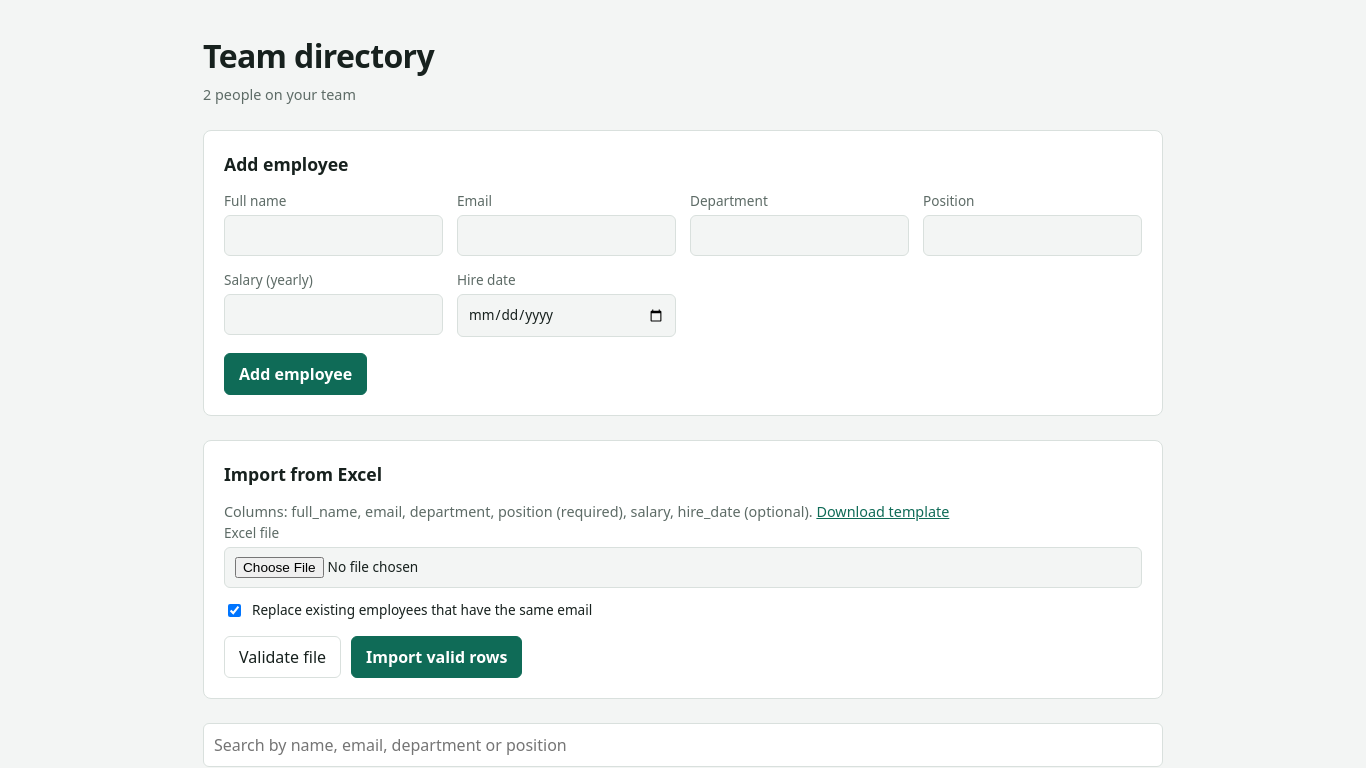
Test: <App /> › shows the server message when adding fails (duplicate email)
The width and height of the screenshot is (1366, 768).
In the field labelled "Full name": (334, 236) [224,215,443,256], type "Dup"
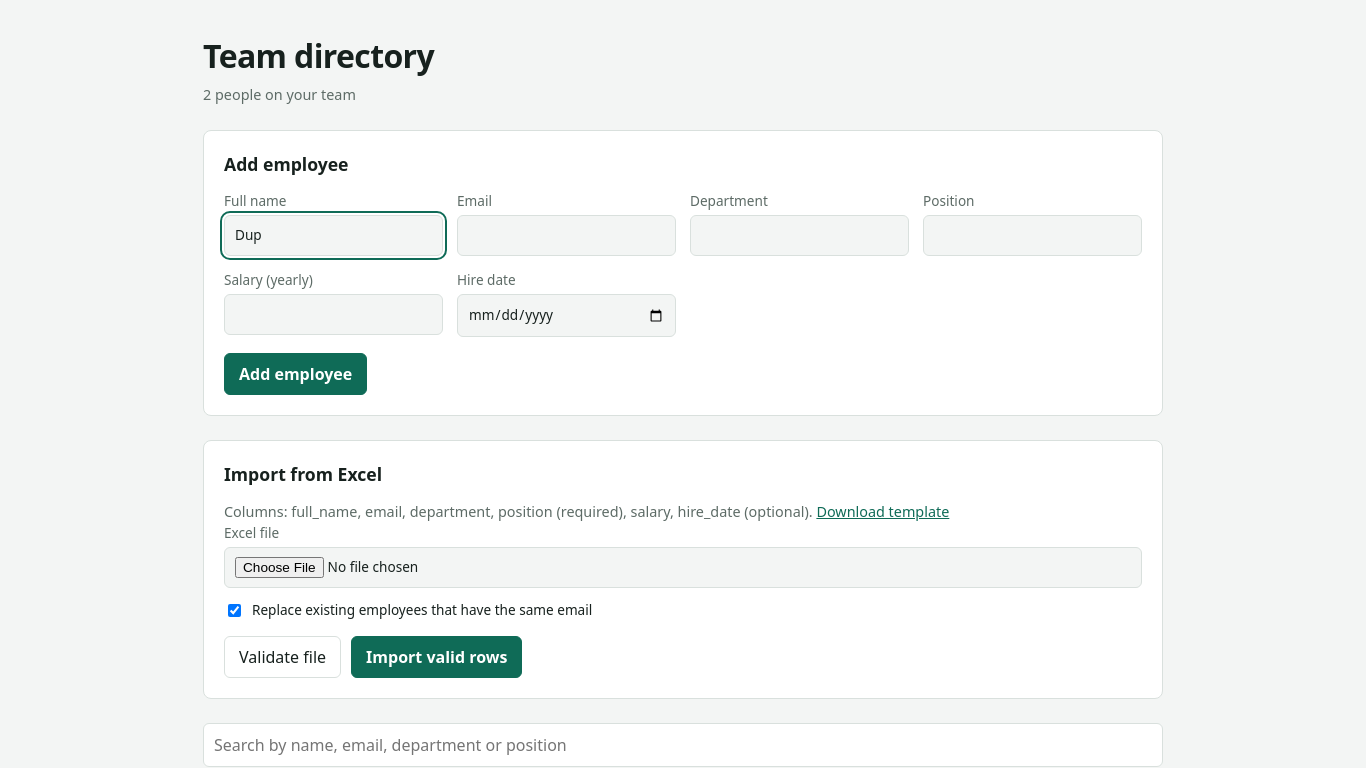
In the field labelled "Email": (566, 236) [457,215,676,256], type "priya@example.com"
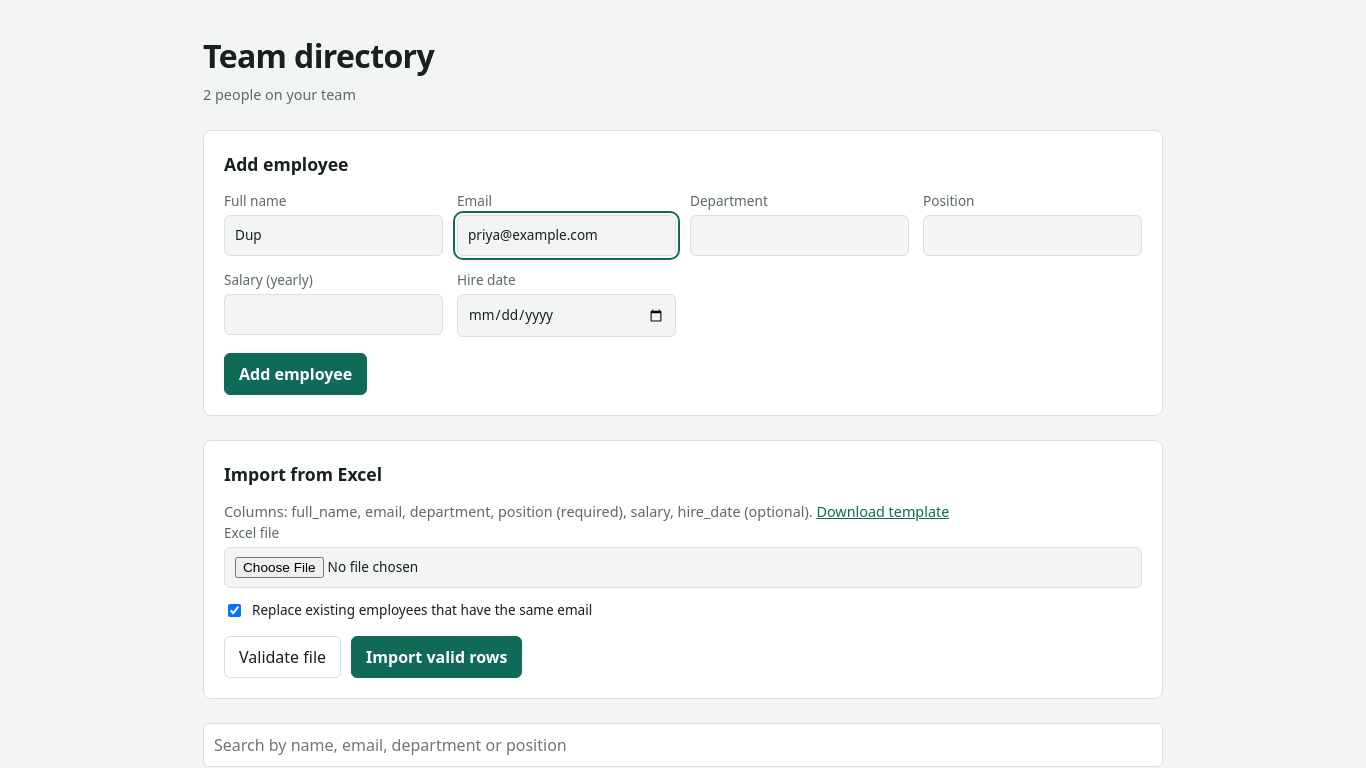
In the field labelled "Department": (800, 236) [690,215,909,256], type "X"
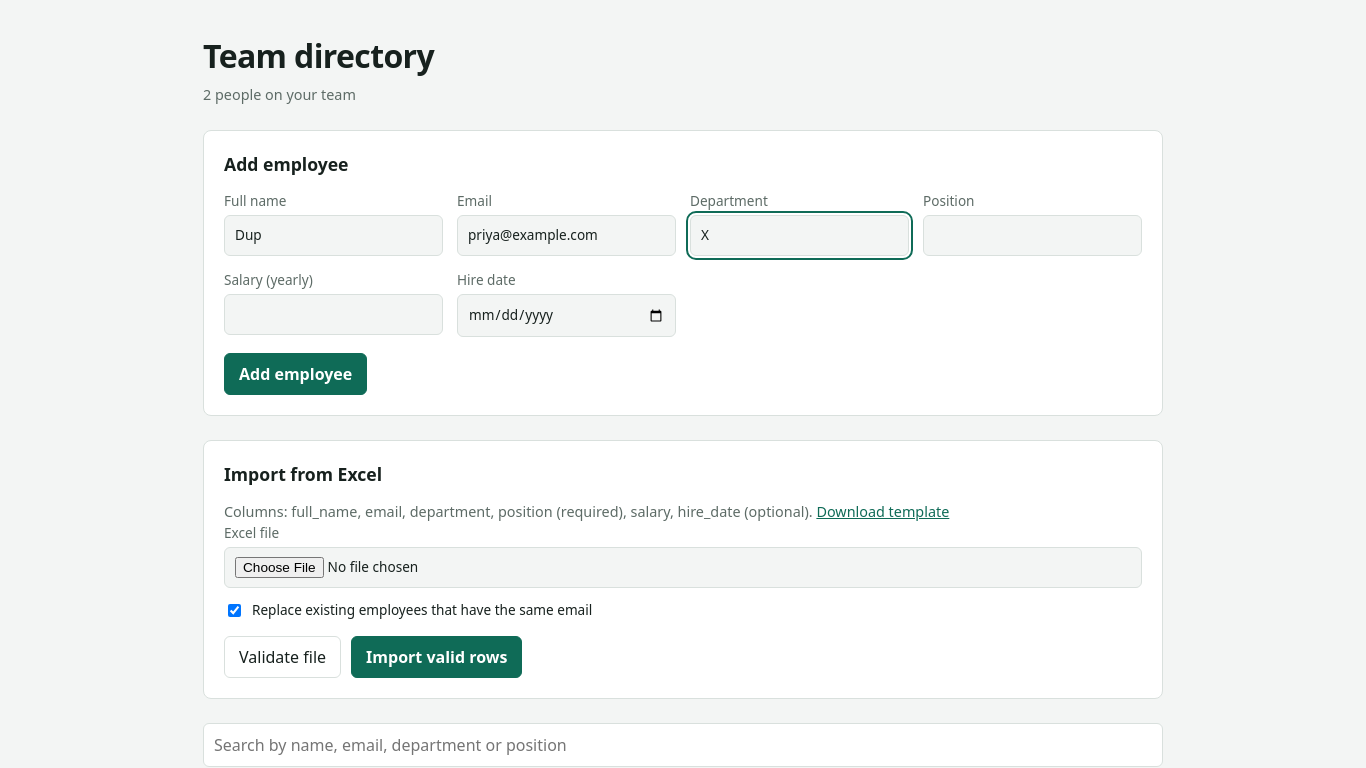
In the field labelled "Position": (1032, 236) [923,215,1142,256], type "Y"
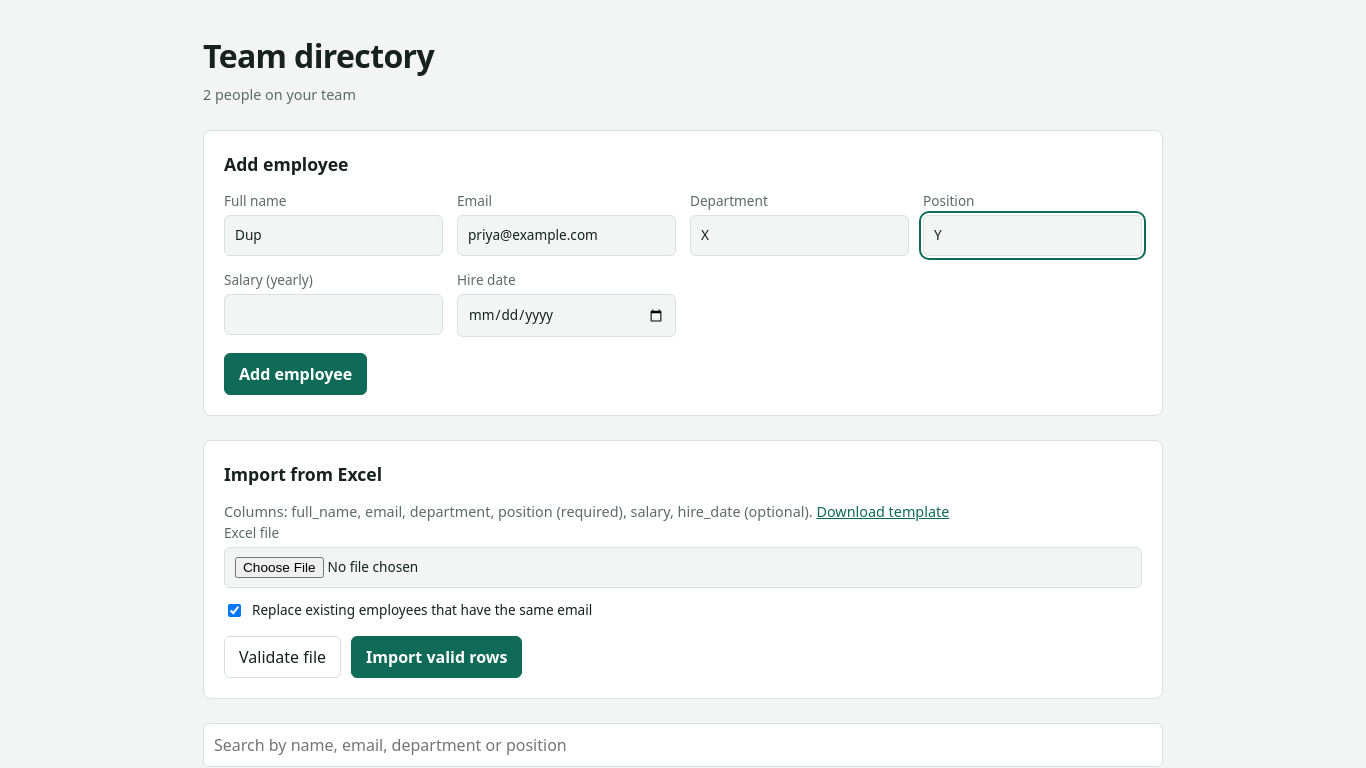
Click the button "Add employee": (296, 374) [224,353,367,395]
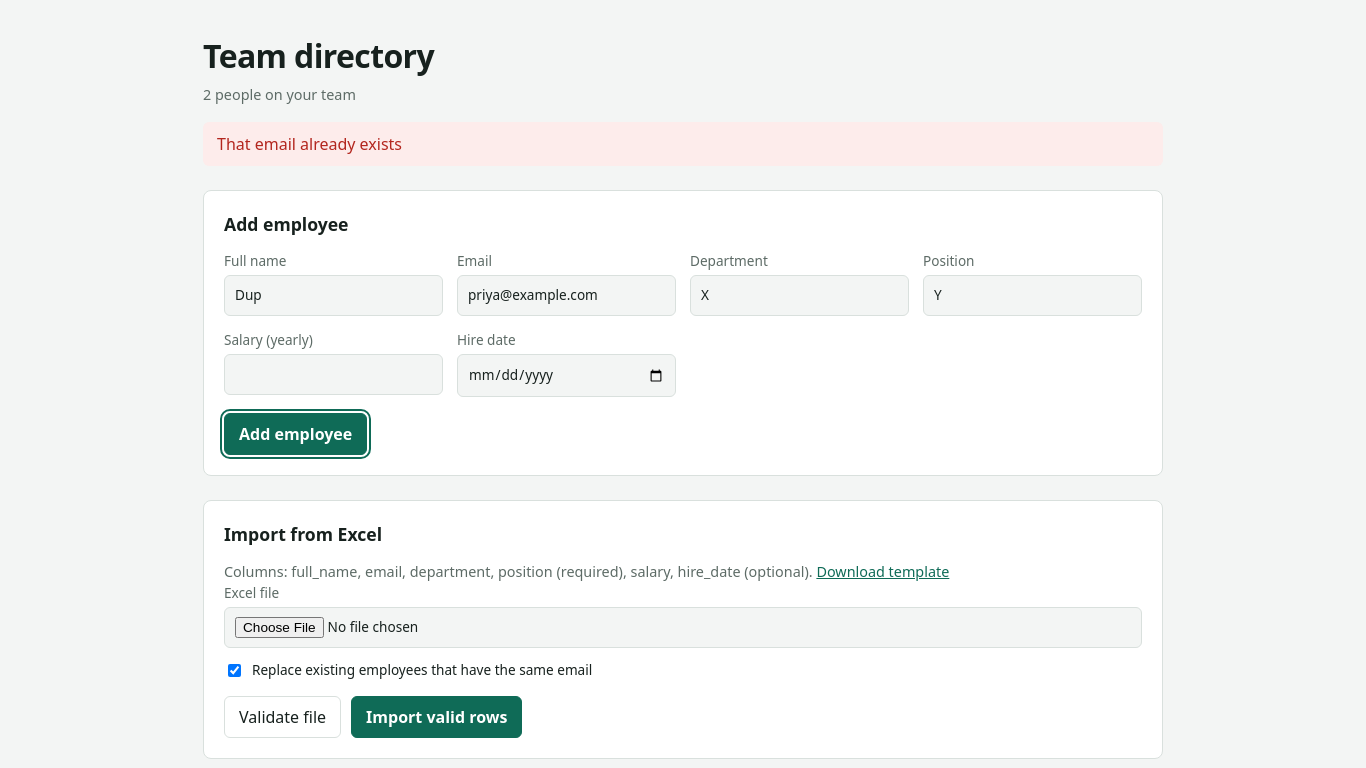
Check: the message reads "That email already exists", box [217,133,402,155]
